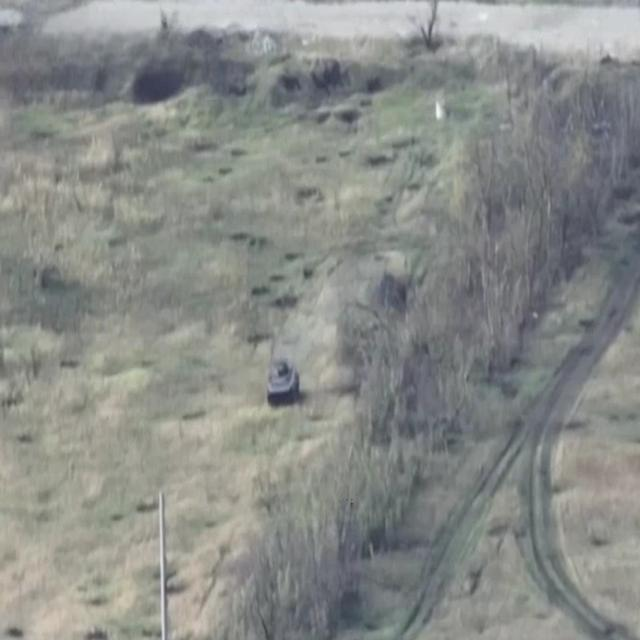AIFV: (267, 359, 303, 408)
